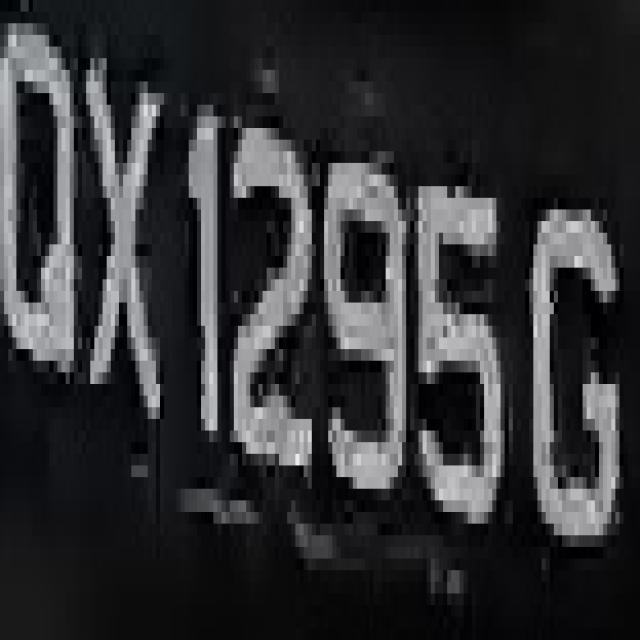1: (176, 47, 230, 466)
2: (226, 81, 320, 512)
5: (406, 140, 505, 535)
9: (316, 105, 406, 535)
G: (517, 174, 632, 558)
Q: (4, 0, 82, 407)
X: (73, 0, 168, 407)
